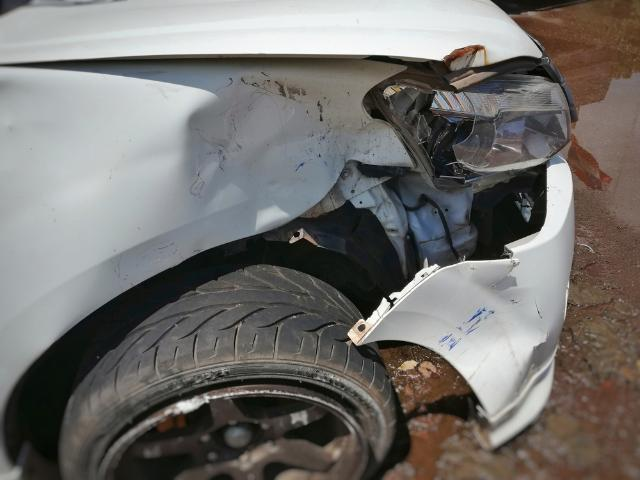dent: (179, 71, 410, 227), (361, 264, 546, 420), (445, 46, 498, 69)
dislocated part: (261, 142, 576, 446)
lamp broken: (372, 62, 570, 181)
